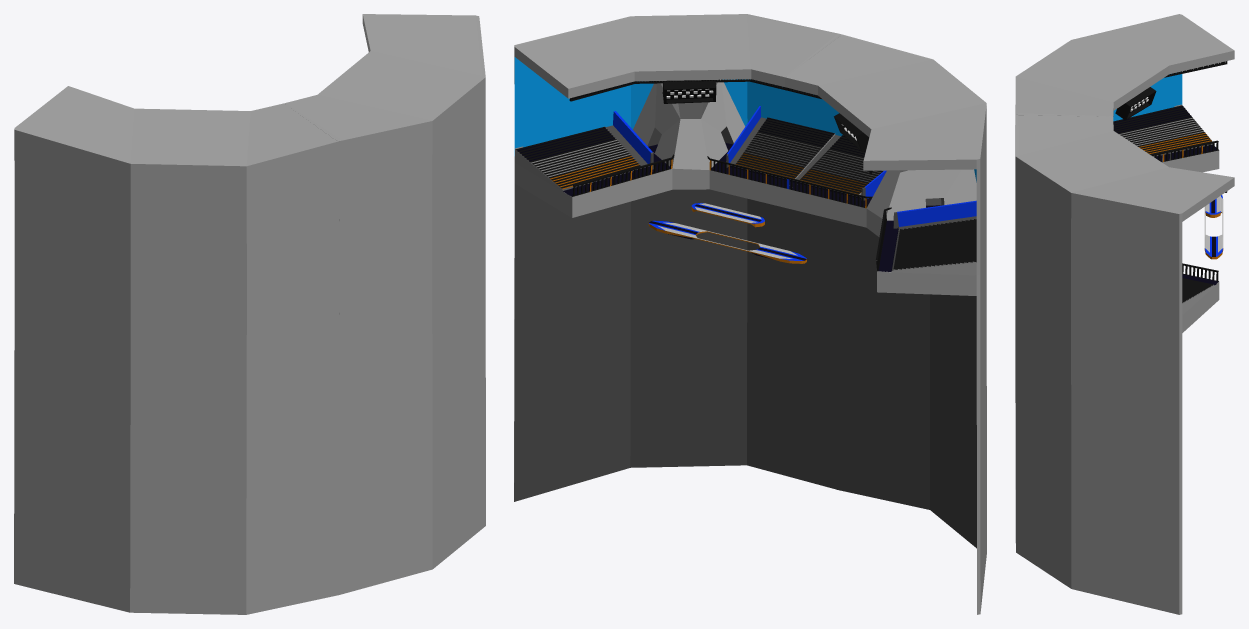
File: fusfus_stadium.obj
3 views of the same model, side by side, from view 1: azimuth 30°, elevation 25°; view 2: azimuth 150°, elevation 25°; view 3: azimuth 270°, elevation 25° (orthographic). The views are drawn at different scales.
Parts seen in each view (by area): view 1: background_Cube.004; view 2: background_Cube.004, plataform_001_Cube.001; view 3: background_Cube.004, plataform_003_Cube.002.
Boxes of the visible parts, x1,y1,x2,y2 form: background_Cube.004: (14,14,485,614); background_Cube.004: (514,14,986,614); plataform_001_Cube.001: (691,203,764,227); background_Cube.004: (1015,14,1234,614); plataform_003_Cube.002: (1204,235,1223,259).
Size of the model in its own units: 72.83 by 67.93 by 33.69.
